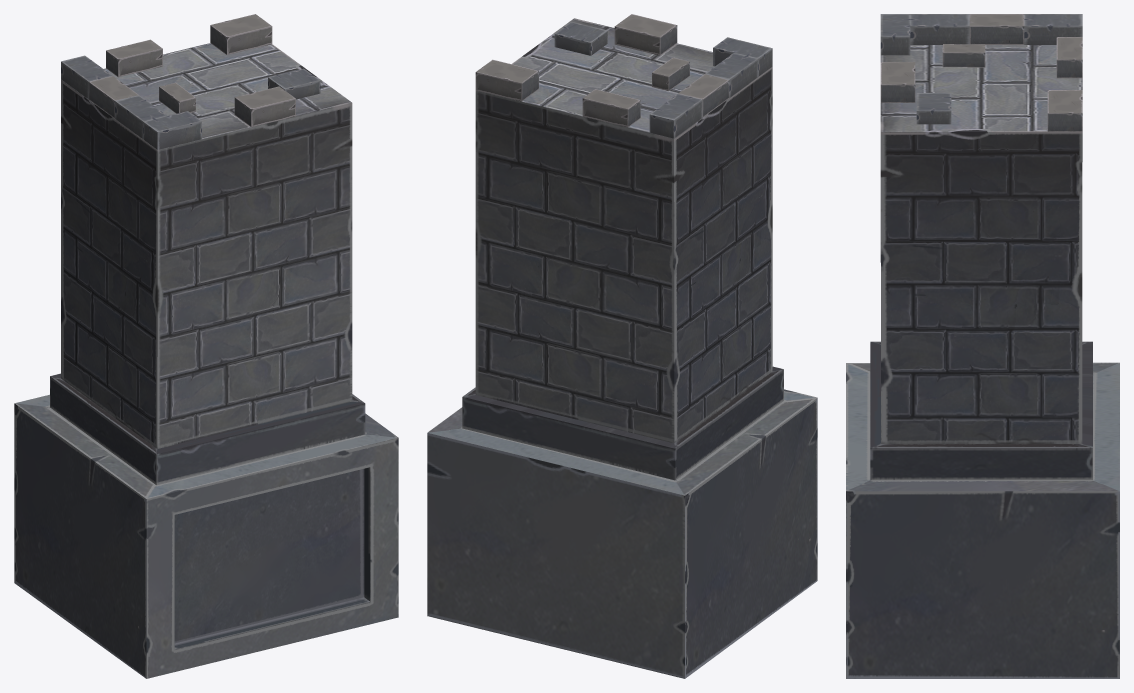
File: Columna_BrokenPlus.FBX
The picture shows the model from 3 angles, left to right: view 1: azimuth 30°, elevation 25°; view 2: azimuth 150°, elevation 25°; view 3: azimuth 270°, elevation 25°; orthographic projection. The views are drawn at different scales.
Parts seen in each view (by area): view 1: Object115; view 2: Object115; view 3: Object115.
Part boxes in pixels (<box>): Object115: <box>14,14,398,678</box>; Object115: <box>427,14,817,678</box>; Object115: <box>846,14,1119,678</box>.
Size of the model in its own units: 147 by 293 by 132.
Materials: 1 (1 with a texture image).
